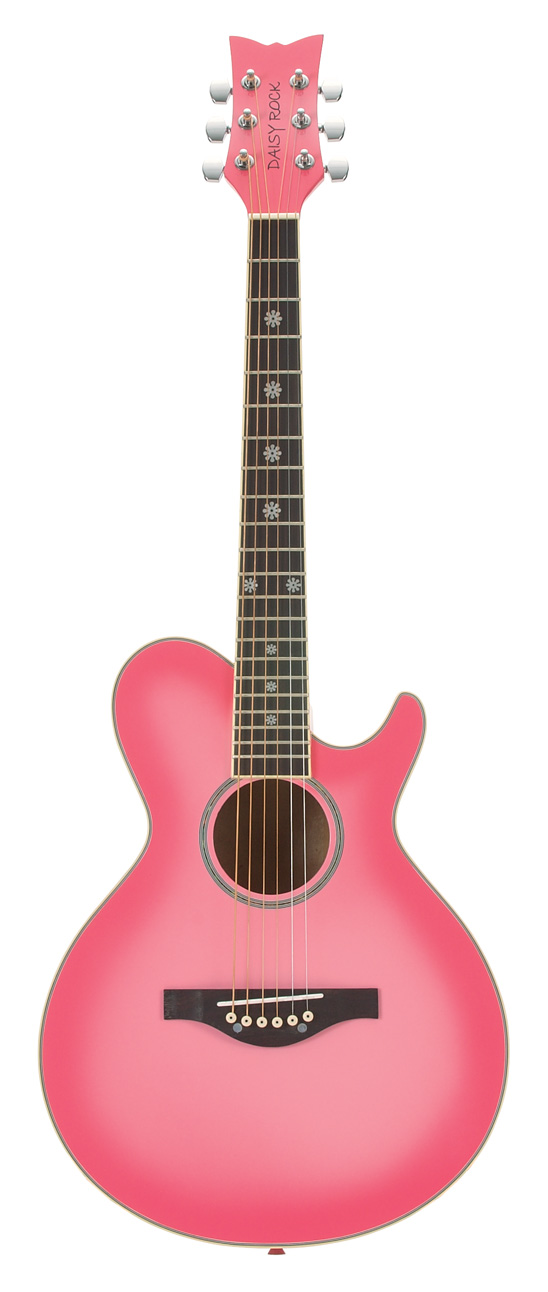guitar: (36, 33, 512, 1246)
